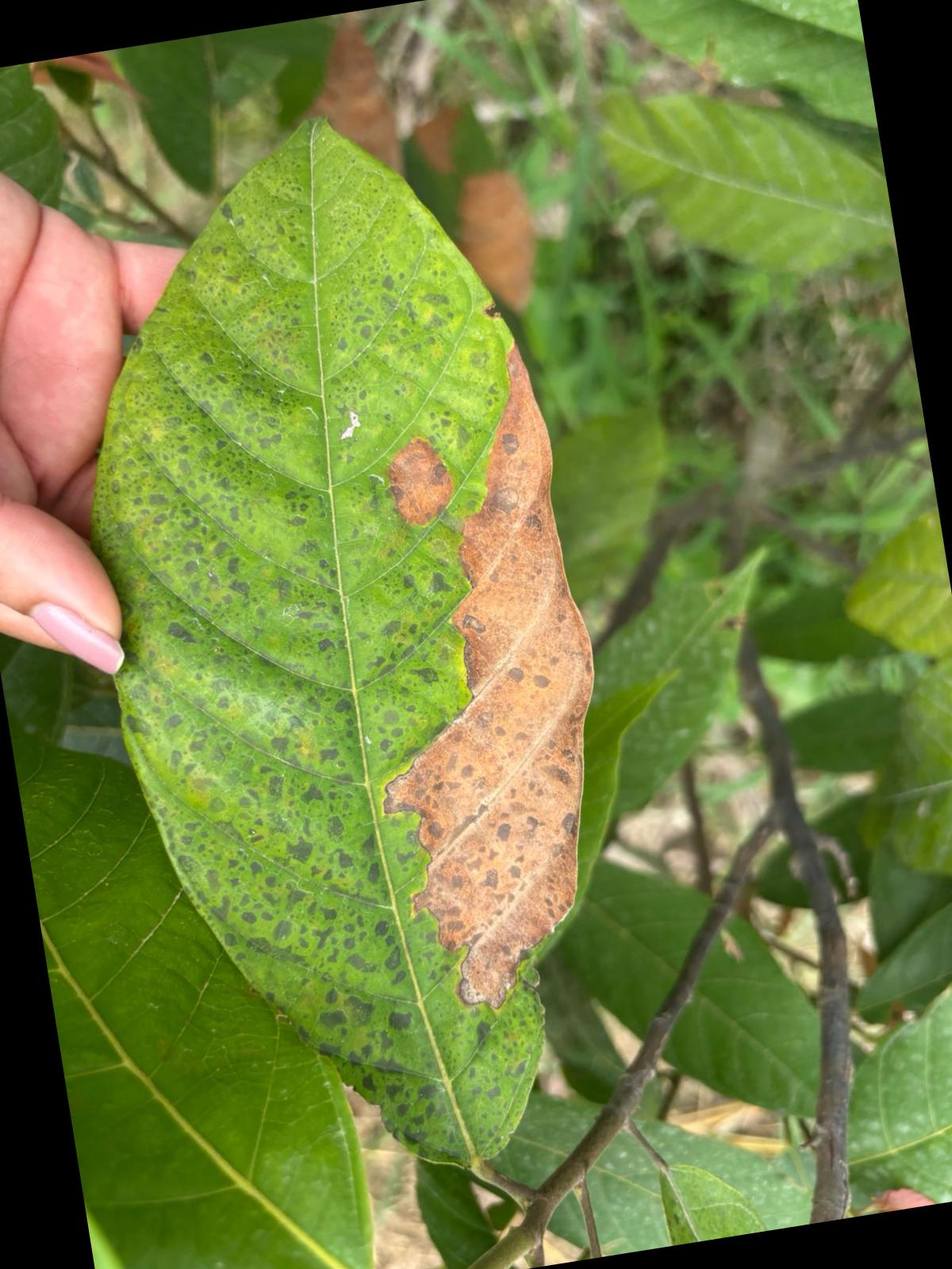Potasio: (92, 121, 592, 1166)
